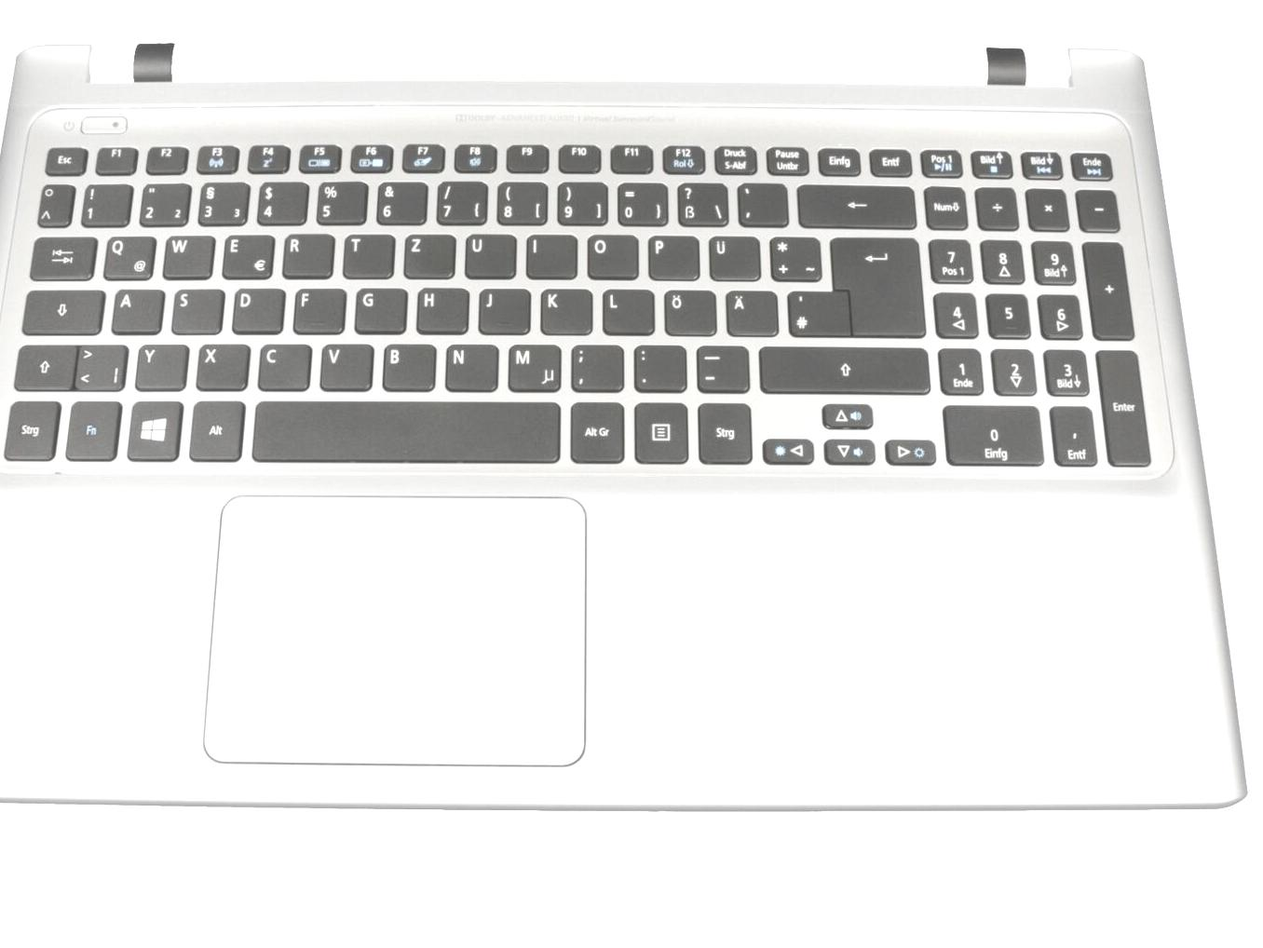0: (615, 181, 669, 226)
1: (81, 183, 132, 228)
2: (140, 183, 191, 226)
3: (197, 181, 250, 225)
4: (256, 180, 309, 224)
5: (315, 180, 368, 224)
6: (375, 180, 428, 225)
7: (436, 180, 488, 224)
8: (496, 181, 548, 224)
9: (555, 180, 608, 225)
a: (111, 287, 165, 334)
accent: (737, 181, 789, 226)
ae: (724, 289, 780, 337)
alt-left: (189, 400, 244, 461)
altgr-right: (569, 400, 625, 462)
b: (381, 342, 437, 391)
c: (256, 342, 312, 390)
caret: (37, 183, 75, 227)
comma: (569, 343, 624, 392)
d: (231, 286, 285, 334)
del: (794, 183, 917, 228)
e: (222, 232, 275, 279)
enter: (831, 236, 924, 336)
f: (292, 286, 346, 334)
g: (353, 285, 408, 333)
h: (414, 286, 469, 334)
hash: (786, 289, 849, 336)
i: (524, 232, 578, 278)
j: (477, 286, 531, 334)
k: (538, 286, 593, 335)
keyboard: (1, 103, 1184, 479)
l: (600, 287, 655, 335)
less: (76, 343, 129, 390)
m: (507, 343, 563, 392)
minus: (694, 344, 751, 393)
n: (443, 343, 499, 392)
o: (585, 232, 639, 279)
oe: (662, 288, 717, 335)
p: (646, 234, 700, 280)
plus: (768, 235, 822, 281)
point: (632, 343, 688, 393)
q: (103, 234, 156, 279)
r: (281, 232, 335, 278)
s: (170, 287, 224, 334)
shift-left: (14, 344, 75, 389)
shift-lock: (21, 288, 105, 335)
shift-right: (757, 345, 930, 394)
space: (251, 400, 561, 462)
ss: (676, 182, 728, 226)
strg-left: (4, 400, 60, 460)
strg-right: (697, 401, 754, 465)
t: (342, 232, 395, 278)
tab: (29, 235, 98, 280)
u: (464, 232, 517, 278)
ue: (707, 234, 761, 281)
v: (319, 342, 374, 391)
w: (162, 233, 215, 278)
x: (196, 342, 251, 390)
y: (134, 343, 189, 391)
z: (402, 232, 455, 278)
